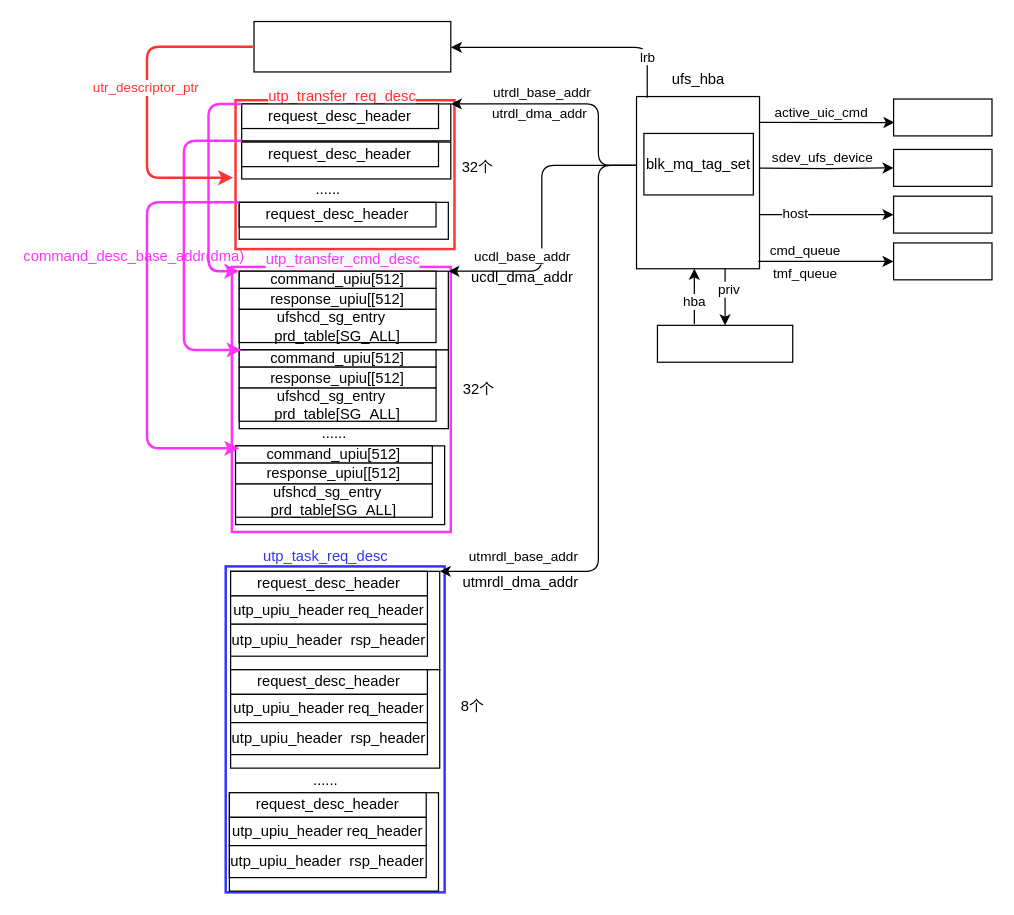
The diagram is 1014 pixels wide and 915 high, and some of its shapes have lost their labels. Here are the shapes that lost their labels. From the top down, the centre of each, then its label:
At (352,46): "ufshcd_lrb".
At (942,117): "uic_command".
At (942,167): "scsi_device".
At (942,214): "Scsi_Host".
At (942,261): "request_queue".
At (724,343): "ufs_qcom_host".
